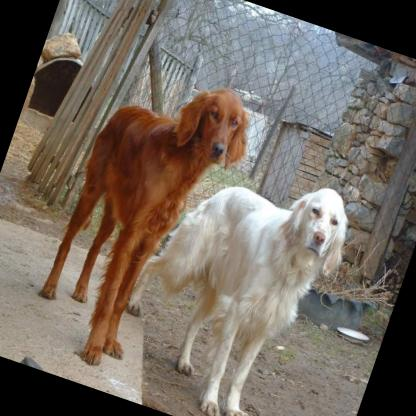English_setter: (96, 131, 364, 416)
